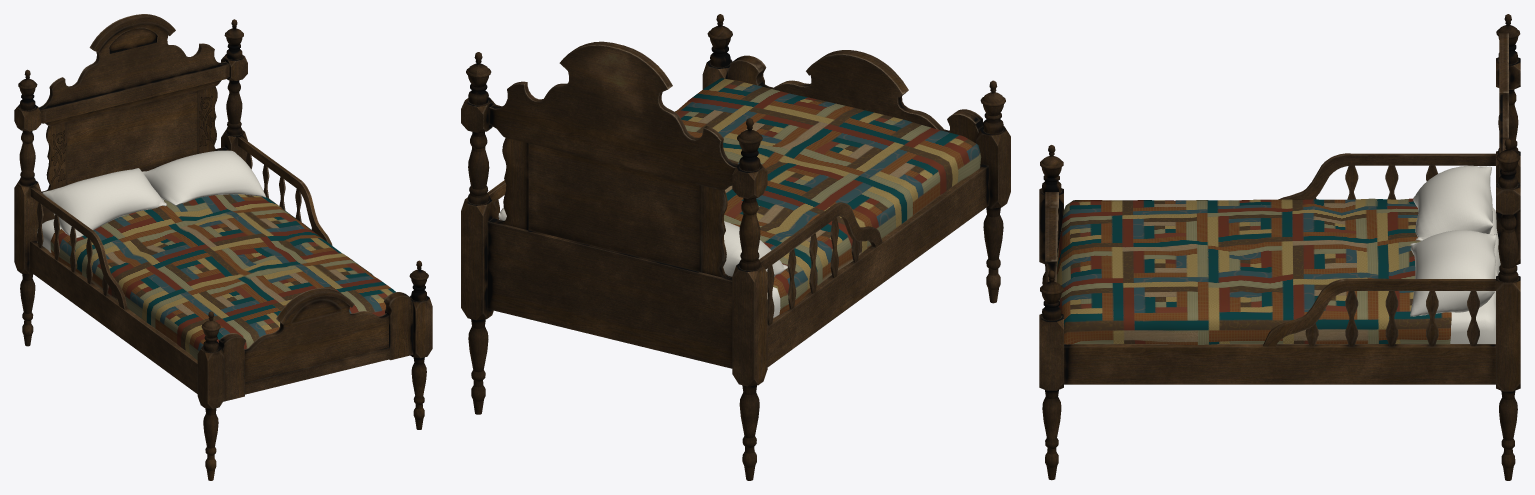
File: bed.FBX
3 views of the same model, side by side, from view 1: azimuth 30°, elevation 25°; view 2: azimuth 150°, elevation 25°; view 3: azimuth 270°, elevation 25° (orthographic). The views are drawn at different scales.
Visible parts, largest first — view 1: Bed; view 2: Bed; view 3: Bed.
Boxes of the visible parts, x1,y1,x2,y2 form: Bed: [14, 14, 432, 480]; Bed: [461, 14, 1010, 480]; Bed: [1039, 14, 1520, 480].
Bounding box in the file's own units: 1 × 1.29 × 1.5.
2 materials, 2 textured.
